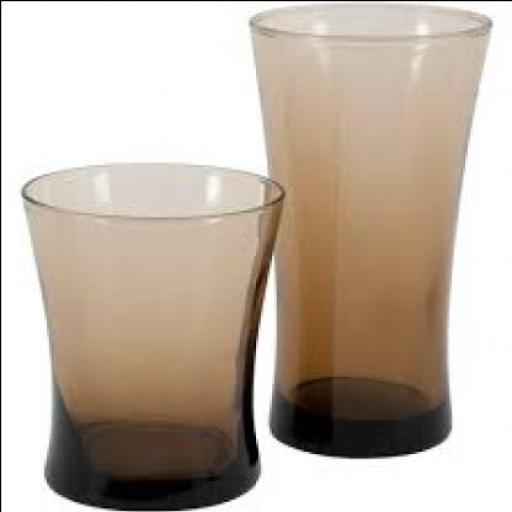glass: (250, 2, 495, 456), (22, 161, 287, 510)
